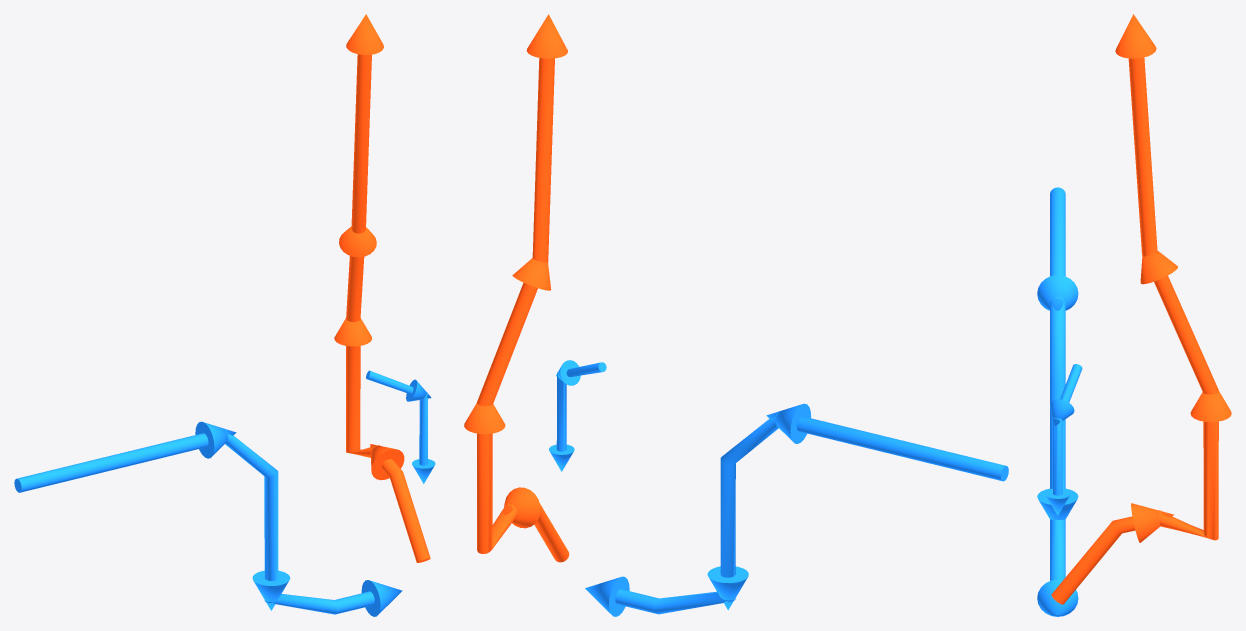
Rendered from self_priming_centrifugal_pump_flow.glb.
3 views of the same model, side by side, from view 1: azimuth 30°, elevation 25°; view 2: azimuth 150°, elevation 25°; view 3: azimuth 270°, elevation 25° (orthographic). The views are drawn at different scales.
Visible parts, largest first — view 1: flow_discharge, flow_suction, flow_recirculation; view 2: flow_discharge, flow_suction, flow_recirculation; view 3: flow_discharge, flow_suction, flow_recirculation.
Boxes of the visible parts, left/top/right/bottom form: flow_discharge: left=334, top=14, right=430, bottom=562; flow_suction: left=14, top=421, right=402, bottom=616; flow_recirculation: left=366, top=370, right=435, bottom=483; flow_discharge: left=464, top=14, right=569, bottom=562; flow_suction: left=585, top=403, right=1008, bottom=616; flow_recirculation: left=549, top=360, right=606, bottom=471; flow_discharge: left=1051, top=14, right=1231, bottom=604; flow_suction: left=1037, top=187, right=1078, bottom=616; flow_recirculation: left=1045, top=364, right=1082, bottom=515.
Bounding box in the file's own units: 0.5333 × 0.6868 × 0.1958.
